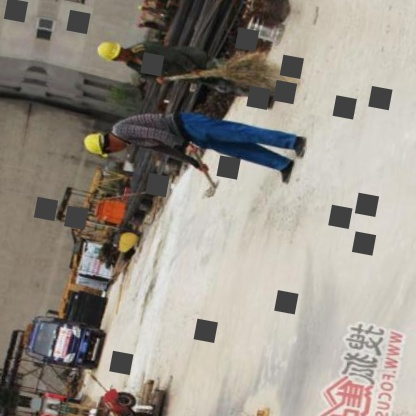yellow: (76, 125, 111, 160), (91, 34, 126, 67)
